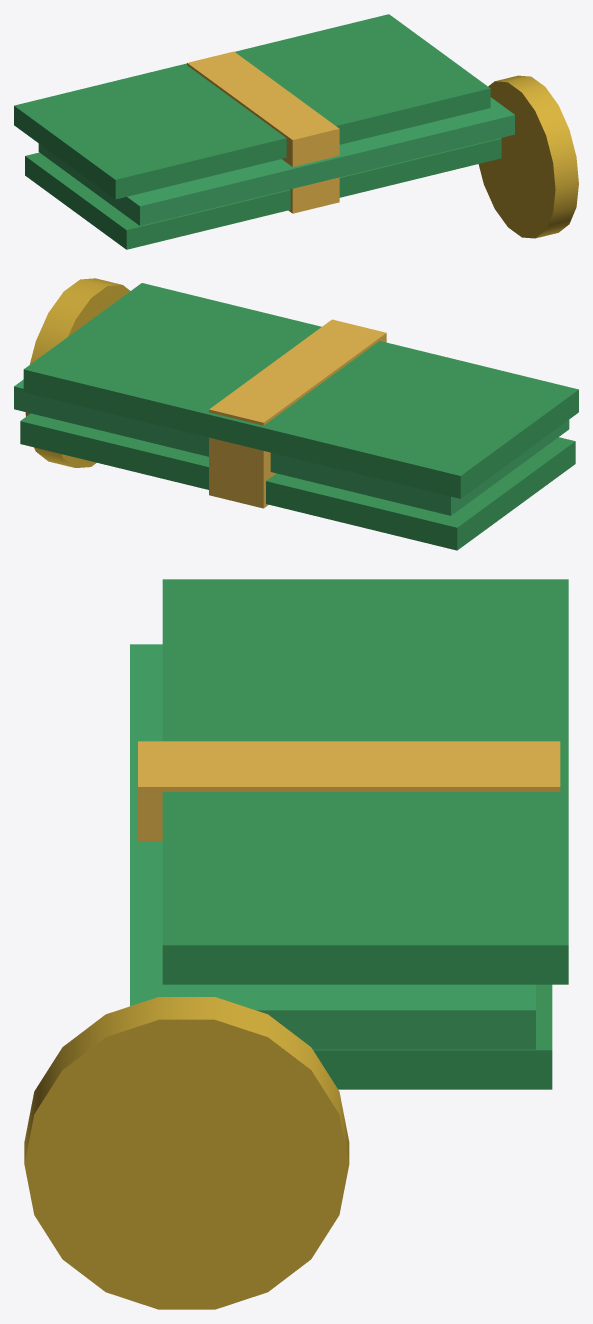
The model's file is item_cash.fbx.
The picture shows the model from 3 angles, top to bottom: view 1: azimuth 30°, elevation 25°; view 2: azimuth 150°, elevation 25°; view 3: azimuth 270°, elevation 25°; orthographic projection. The views are drawn at different scales.
Visible parts, largest first — view 1: M__item_cash; view 2: M__item_cash; view 3: M__item_cash.
Boxes of the visible parts, x1,y1,x2,y2 form: M__item_cash: [14, 14, 578, 249]; M__item_cash: [14, 278, 578, 550]; M__item_cash: [24, 579, 568, 1309].
Bounding box in the file's own units: 0.183 × 0.0645 × 0.1005.
